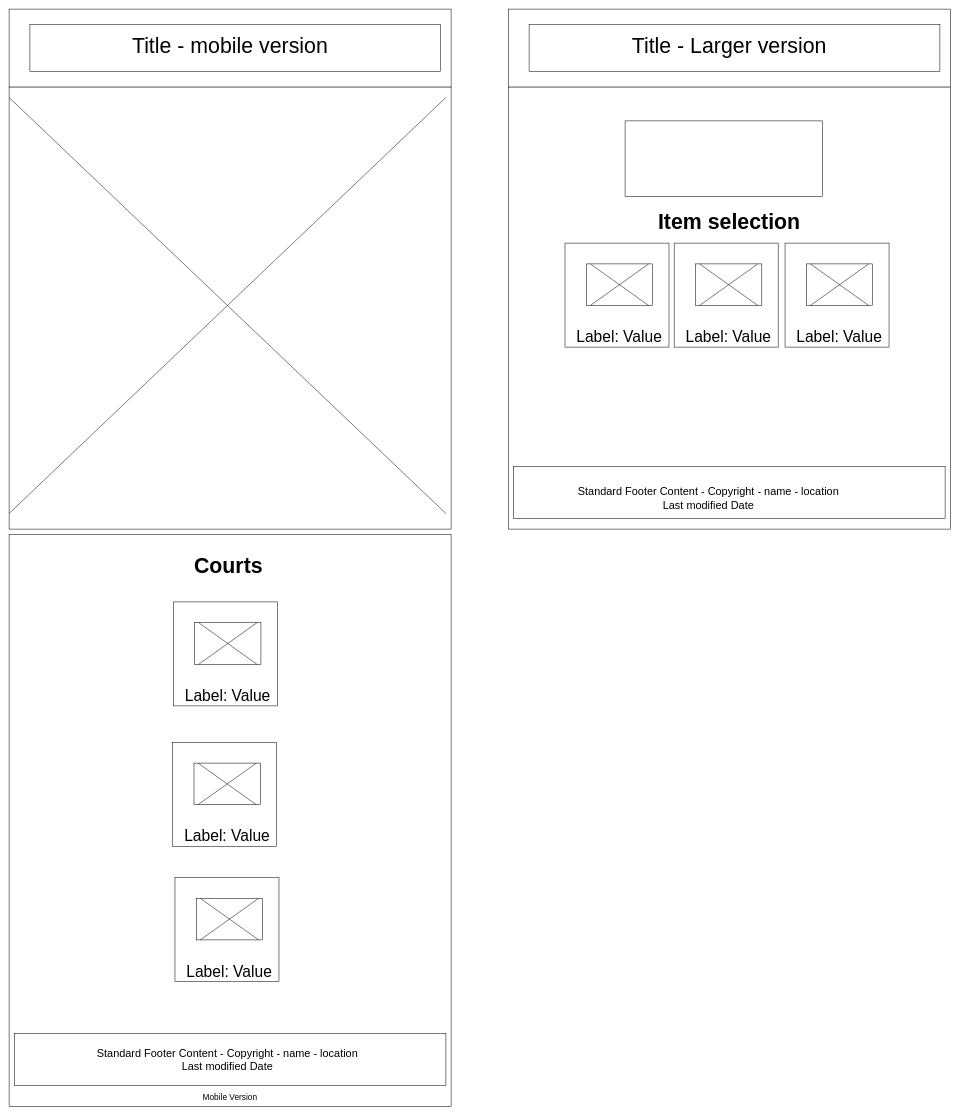
Some shapes in this 959 by 1115 pixel diagram are drawn without their labels. Here are the shapes that lost their labels. From the top down, the centre of each, then its label:
point 724,158: Site Description
point 227,305: Small Image
